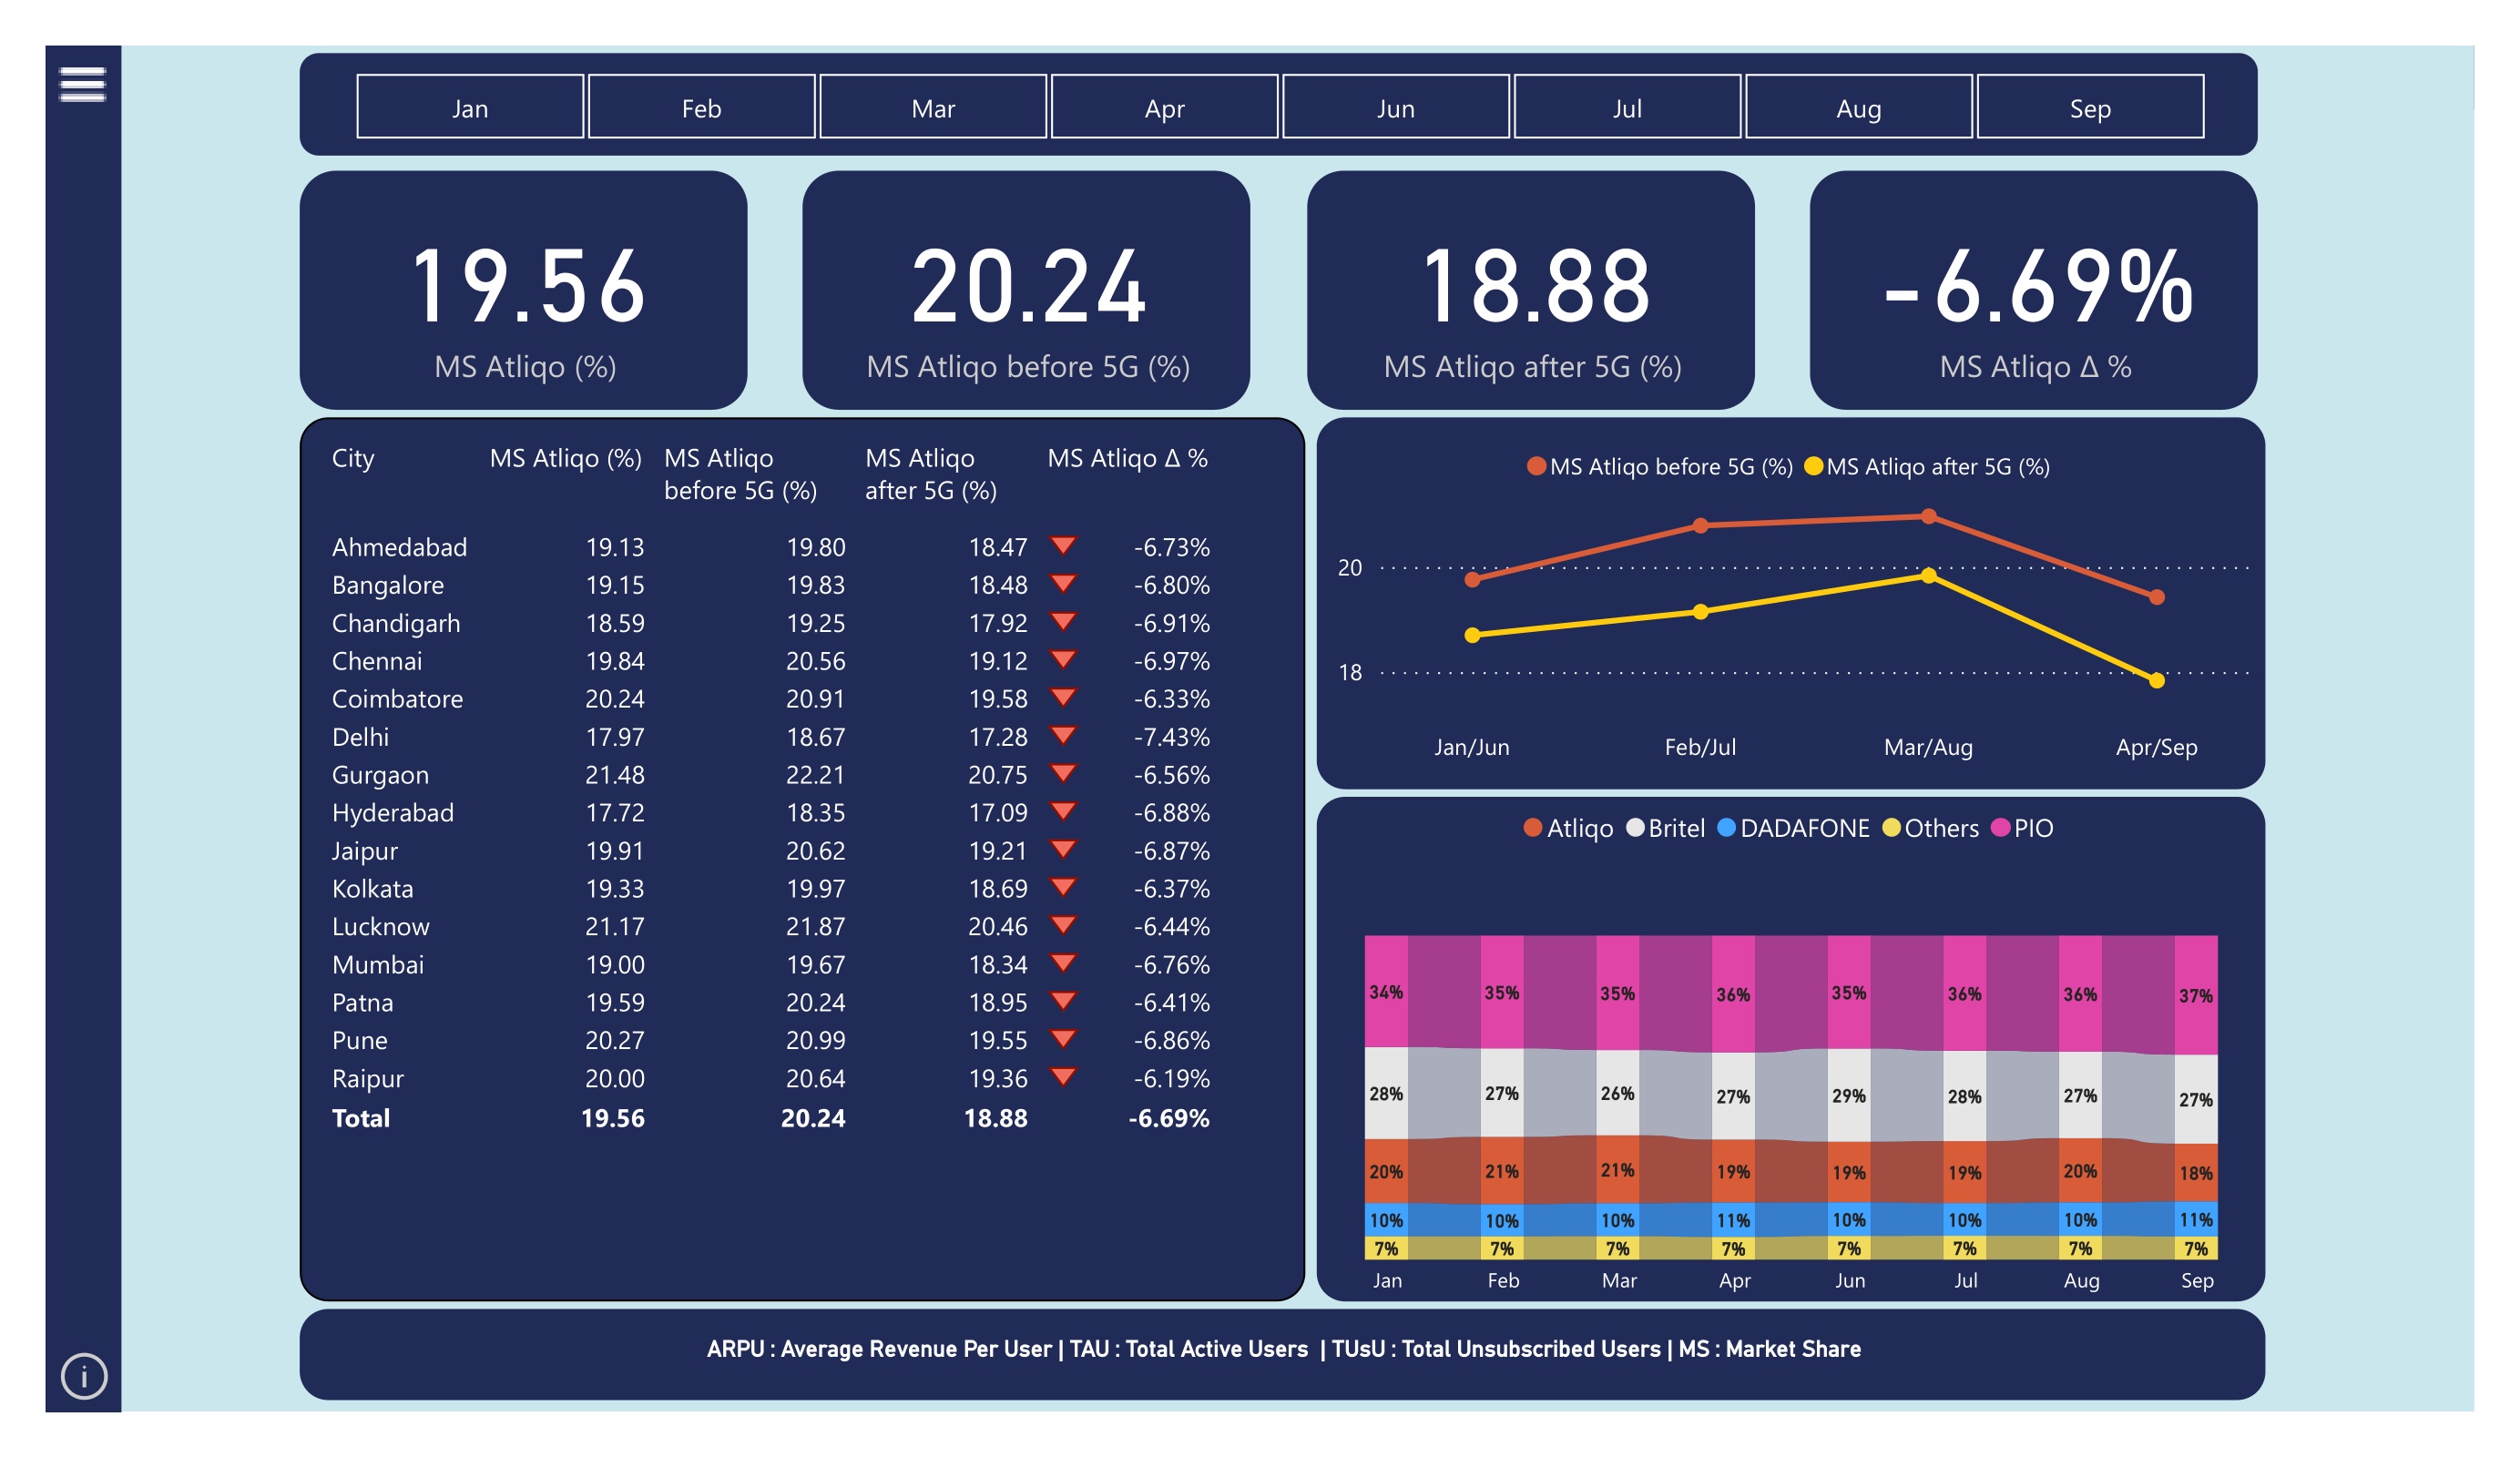

The page's visual inventory and layout, read from the dashboard file:
{"tool":"powerbi","page":{"name":"MS","canvas":[1280,720],"ordinal":5},"visuals":[{"type":"shape","title":"blue left border","box":[0,0,40,935],"z":0,"group":"g3"},{"type":"group","id":"g1","title":"cards","box":[134,66,1032,126],"z":0},{"type":"card","fields":{"Values":["Key Measures.MS atliqo"]},"box":[134,66,235.7,126],"z":0,"group":"g1"},{"type":"lineChart","fields":{"Category":["dim_date.Month compare"],"Y":["Key Measures.MS atliqo before 5G","Key Measures.MS atliqo after 5G"]},"box":[670,196,500,196],"z":0,"group":"g2"},{"type":"actionButton","title":"hamburger","box":[2,3,35,35],"z":1000,"group":"g3"},{"type":"group","id":"g2","title":"Group 1","box":[134,4,1036,710],"z":1000},{"type":"card","fields":{"Values":["Key Measures.MS atliqo before 5G"]},"box":[399.4,66,235.7,126],"z":1000,"group":"g1"},{"type":"textbox","box":[134,666,1036,48],"z":1000,"group":"g2"},{"type":"card","fields":{"Values":["Key Measures.MS atliqo after 5G"]},"box":[664.8,66,235.7,126],"z":2000,"group":"g1"},{"type":"tableEx","fields":{"Values":["dim_cities.city_name","Key Measures.MS% 2","Key Measures.MS atliqo before 5G","Key Measures.MS atliqo after 5G","Key Measures.MS Atliqo Δ %"]},"box":[134,196,530,466],"z":2000,"group":"g2"},{"type":"actionButton","title":"info","box":[3,684.4,34.8,34.8],"z":2000,"group":"g3"},{"type":"group","id":"g3","title":"Menu Bar","box":[0,0,40,935],"z":3000},{"type":"slicer","fields":{"Values":["dim_date.month_name"]},"box":[134,4,1032,54],"z":3000,"group":"g2"},{"type":"card","fields":{"Values":["Key Measures.MS Atliqo Δ %"]},"box":[930.3,66,235.7,126],"z":3000,"group":"g1"},{"type":"ribbonChart","fields":{"Category":["dim_date.month_name"],"Y":["Key Measures.Market Share %"],"Series":["fact_market_share.company"]},"box":[670,396,500,266],"z":4000,"group":"g2"}]}

Visuals, with their boxes on the page's 1280x720 design canvas (x1, y1, x2, y2). These are canvas units, not pixel positions in the 2520x1457 screenshot, which may show the page scaled, cropped or inside an application window:
"blue left border" shape: box=[0, 0, 40, 935]
"cards" group: box=[134, 66, 1166, 192]
card - Key Measures.MS atliqo: box=[134, 66, 370, 192]
lineChart - dim_date.Month compare x Key Measures.MS atliqo before 5G: box=[670, 196, 1170, 392]
"hamburger" actionButton: box=[2, 3, 37, 38]
"Group 1" group: box=[134, 4, 1170, 714]
card - Key Measures.MS atliqo before 5G: box=[399, 66, 635, 192]
textbox: box=[134, 666, 1170, 714]
card - Key Measures.MS atliqo after 5G: box=[665, 66, 900, 192]
tableEx - dim_cities.city_name x Key Measures.MS% 2: box=[134, 196, 664, 662]
"info" actionButton: box=[3, 684, 38, 719]
"Menu Bar" group: box=[0, 0, 40, 935]
slicer - dim_date.month_name: box=[134, 4, 1166, 58]
card - Key Measures.MS Atliqo Δ %: box=[930, 66, 1166, 192]
ribbonChart - dim_date.month_name x Key Measures.Market Share %: box=[670, 396, 1170, 662]
